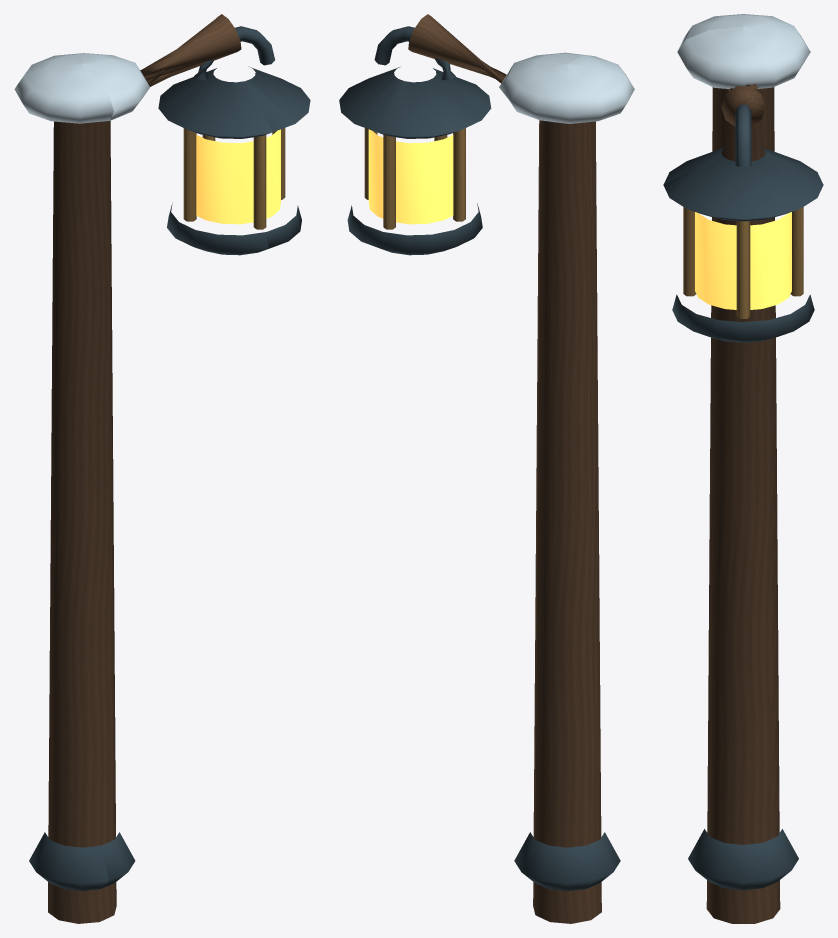
File: lantern_post.glb
3 renders of one model, left to right at view 1: azimuth 30°, elevation 25°; view 2: azimuth 150°, elevation 25°; view 3: azimuth 270°, elevation 25°, orthographic. The views are drawn at different scales.
Parts seen in each view (by area): view 1: lantern_post; view 2: lantern_post; view 3: lantern_post.
Boxes of the visible parts, x1,y1,x2,y2 form: lantern_post: [14, 14, 310, 923]; lantern_post: [339, 14, 634, 923]; lantern_post: [663, 14, 823, 923].
Bounding box in the file's own units: 0.604 × 1.78 × 0.288.
Materials: 5 (5 with a texture image).
